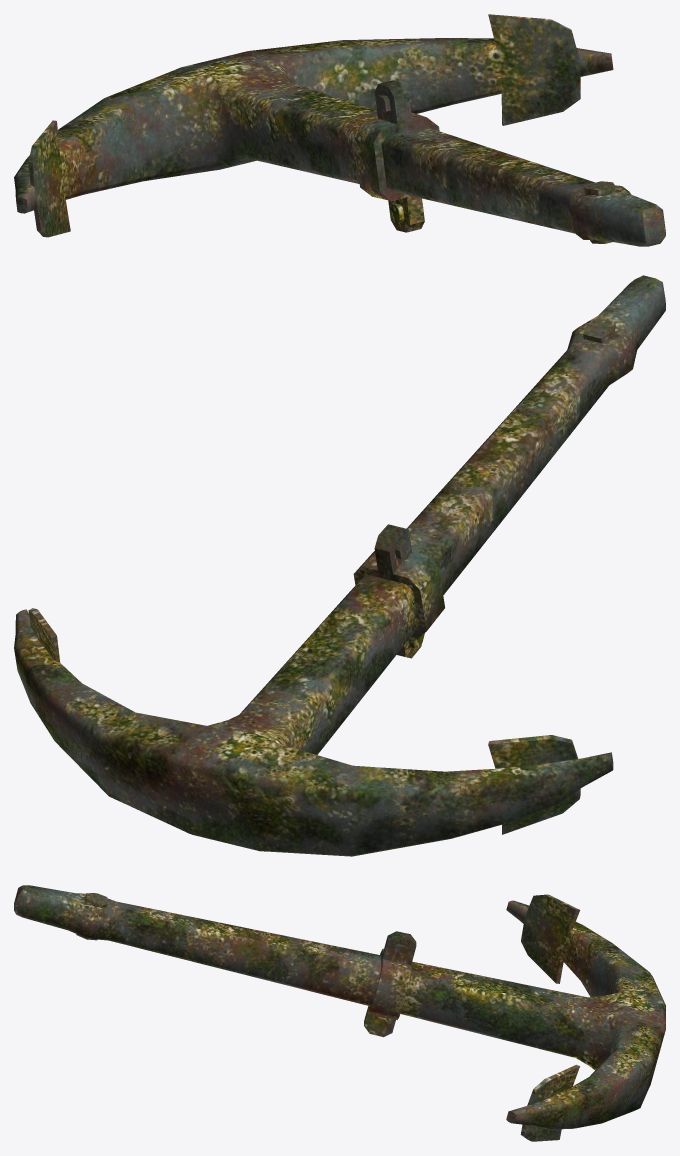
File: Anchor algae.fbx
The picture shows the model from 3 angles, top to bottom: view 1: azimuth 30°, elevation 25°; view 2: azimuth 150°, elevation 25°; view 3: azimuth 270°, elevation 25°; orthographic projection. The views are drawn at different scales.
Parts seen in each view (by area): view 1: Anchor; view 2: Anchor; view 3: Anchor.
Boxes of the visible parts, box(x1,y1,x2,y2) form: Anchor: box(14, 14, 665, 246); Anchor: box(14, 275, 665, 856); Anchor: box(14, 885, 665, 1141).
Size of the model in its own units: 3.28 by 1.35 by 4.23.
1 material, 1 textured.
